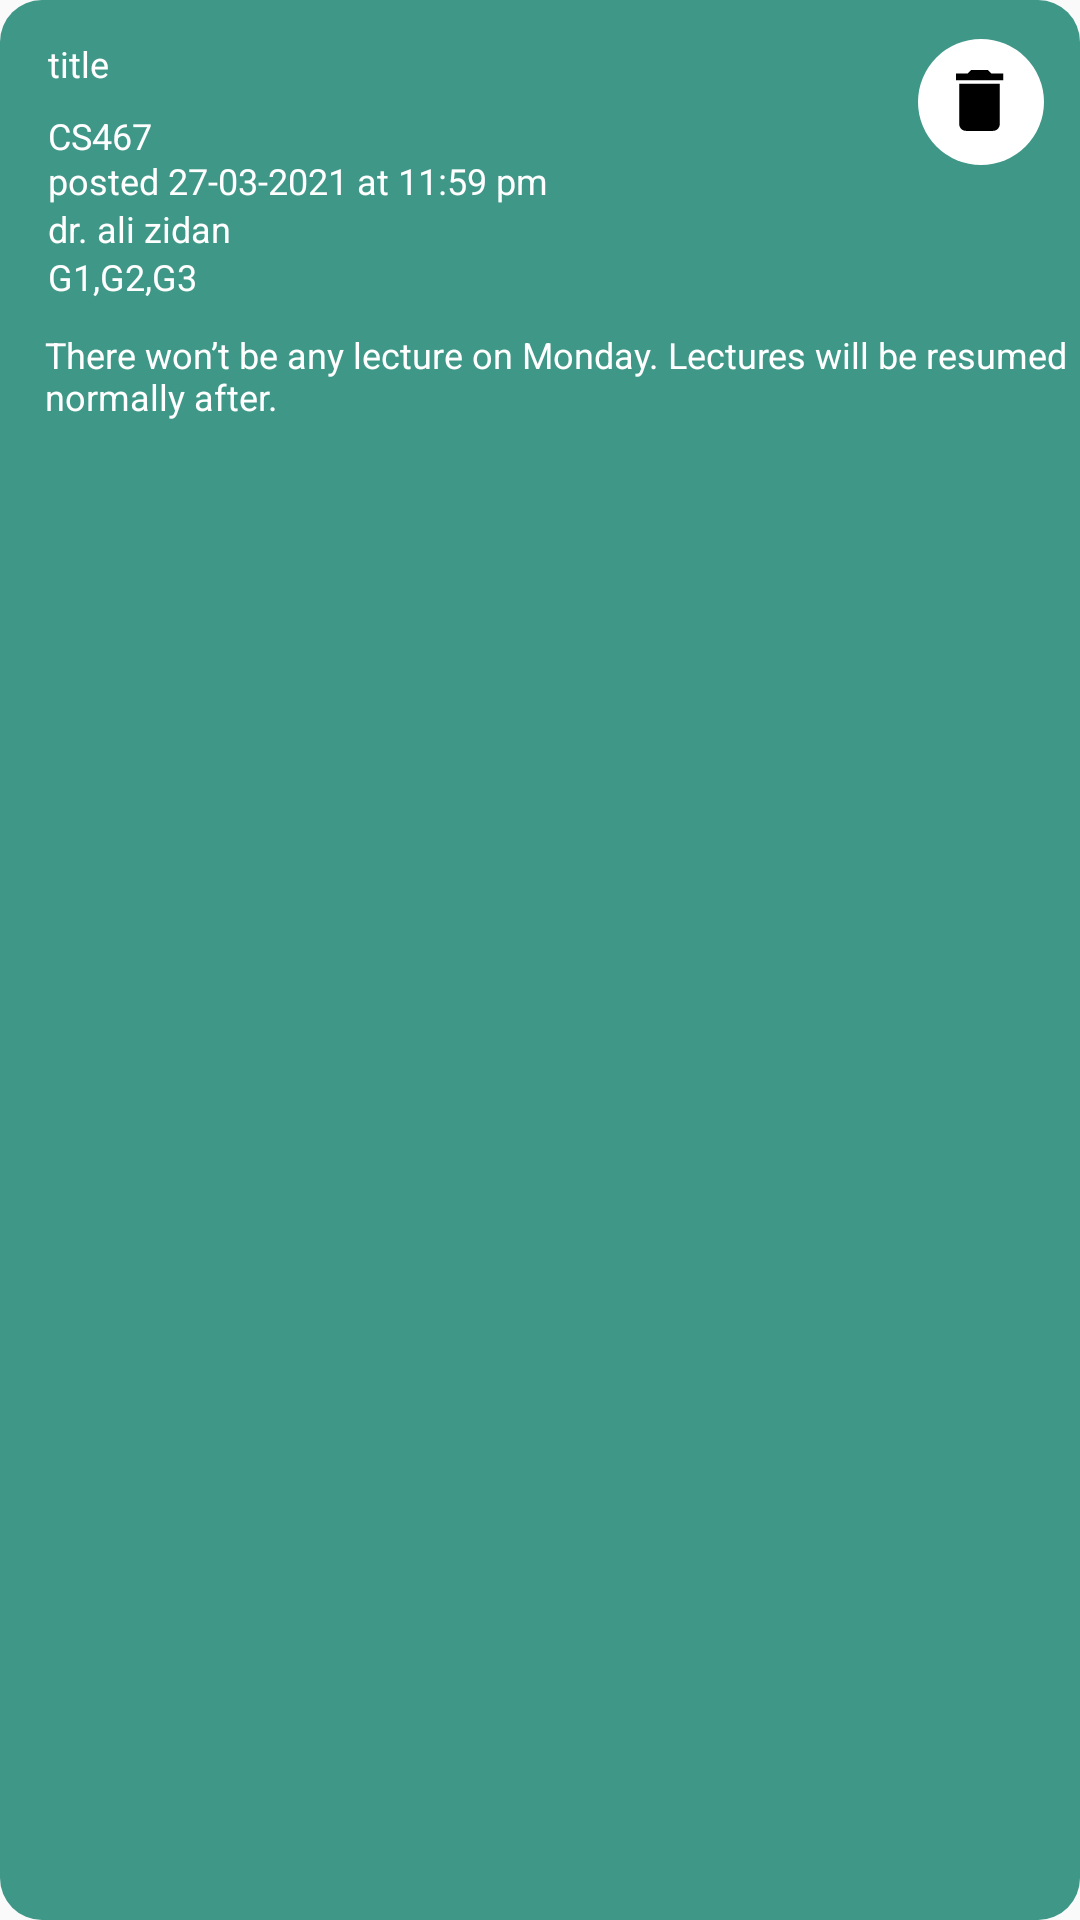

Icon bounding boxes for this 1080px×1920px phone screenshot, format (x1, y1, x2, y2):
delete announcement: (918, 39, 1044, 165)
